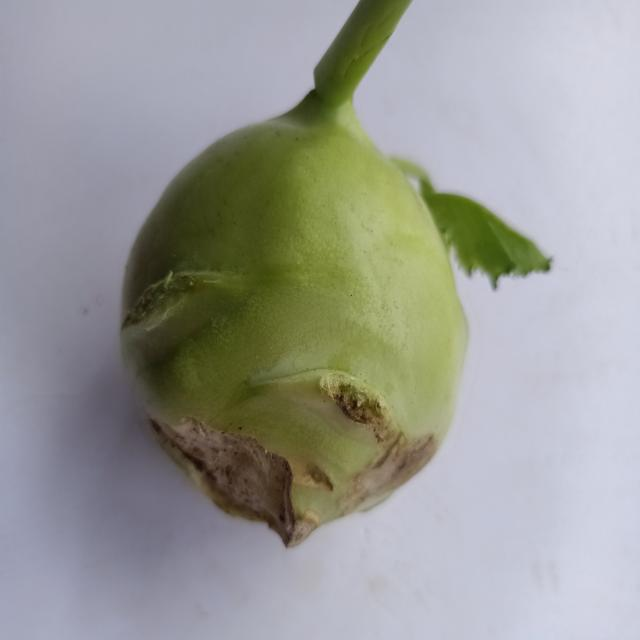Turnip: (86, 6, 557, 563)
